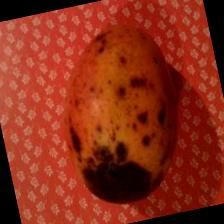Mango Overripe: (40, 3, 198, 211)
